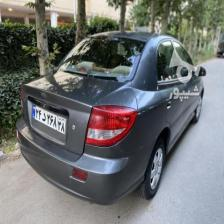plate: (32, 104, 65, 133)
